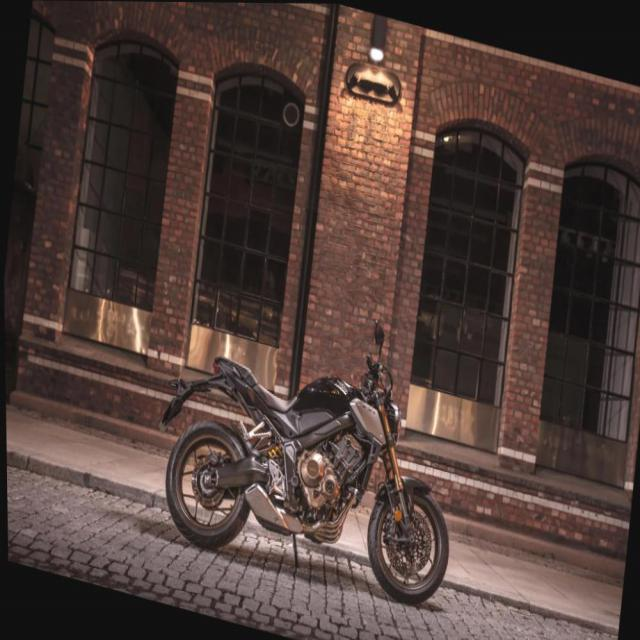CB650R: (155, 322, 468, 616)
